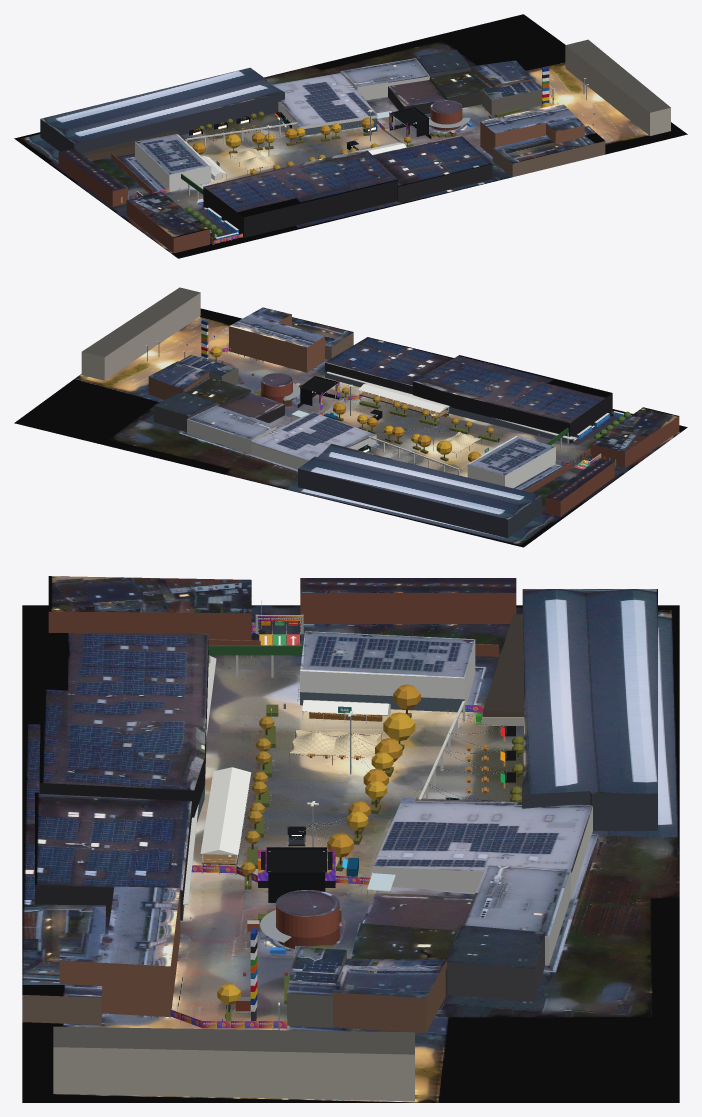
Rendered from KURGER-festival-3D-model-v2.glb.
3 views of the same model, one above another, from view 1: azimuth 30°, elevation 25°; view 2: azimuth 150°, elevation 25°; view 3: azimuth 270°, elevation 25° (orthographic). The views are drawn at different scales.
Parts seen in each view (by area): view 1: grond, Hal – dak, Winkelstrip HEMA / C&A (hoog zwart volume) – dak, Bebouwing overkant straat, Winkelstrip HEMA / C&A (hoog zwart volume), Lidl – dak, Hal, Winkelstrip HEMA / Lola Liza – dak, Bomen, Woningen – dak, Bon'Ap-gebouw – dak, Appartementen – dak (+26 smaller); view 2: grond, Hal – dak, Winkelstrip HEMA / C&A (hoog zwart volume) – dak, Bebouwing overkant straat, Hal, Winkelstrip HEMA / C&A (hoog zwart volume), Winkelstrip HEMA / Lola Liza – dak, Lidl – dak, Appartementen, Bomen, Woningen – dak, Bon'Ap-gebouw – dak (+26 smaller); view 3: grond, Hal – dak, Winkelstrip HEMA / C&A (hoog zwart volume) – dak, Bebouwing overkant straat, Winkelstrip HEMA / Lola Liza – dak, Lidl – dak, Woningen – dak, Bon'Ap-gebouw – dak, Rijwoningen, Appartementen – dak, Bomen, Lidl achterbouw – dak (+32 smaller).
Boxes of the visible parts, x1,y1,x2,y2 form: grond: (14,14,687,258); Hal – dak: (41,67,284,143); Winkelstrip HEMA / C&A (hoog zwart volume) – dak: (203,150,397,217); Bebouwing overkant straat: (565,39,670,135); Winkelstrip HEMA / C&A (hoog zwart volume): (203,180,398,237); Lidl – dak: (272,73,377,126); Hal: (40,80,284,153); Winkelstrip HEMA / Lola Liza – dak: (372,135,491,186); Bomen: (185,102,551,236); Woningen – dak: (127,191,209,237); Bon'Ap-gebouw – dak: (135,134,210,174); Appartementen – dak: (480,103,584,133); grond: (14,308,687,547); Hal – dak: (298,443,541,519); Winkelstrip HEMA / C&A (hoog zwart volume) – dak: (413,355,611,423); Bebouwing overkant straat: (81,287,200,380); Hal: (298,469,541,538); Winkelstrip HEMA / C&A (hoog zwart volume): (413,381,612,443); Winkelstrip HEMA / Lola Liza – dak: (325,337,453,386); Lidl – dak: (251,412,375,460); Appartementen: (229,314,324,372); Bomen: (210,346,630,462); Woningen – dak: (591,407,678,452); Bon'Ap-gebouw – dak: (468,436,555,475); grond: (22,605,679,1102); Hal – dak: (522,589,657,794); Winkelstrip HEMA / C&A (hoog zwart volume) – dak: (39,633,208,790); Bebouwing overkant straat: (53,1026,414,1101); Winkelstrip HEMA / Lola Liza – dak: (35,792,191,890); Lidl – dak: (373,798,592,872); Woningen – dak: (48,576,251,613); Bon'Ap-gebouw – dak: (300,631,474,678); Rijwoningen: (300,593,516,623); Appartementen – dak: (59,886,179,966); Bomen: (217,684,523,1012); Lidl achterbouw – dak: (462,865,570,937).
Size of what is drawn, in the model's own units: 274 by 22.92 by 153.
Materials: 4 (2 with a texture image).
